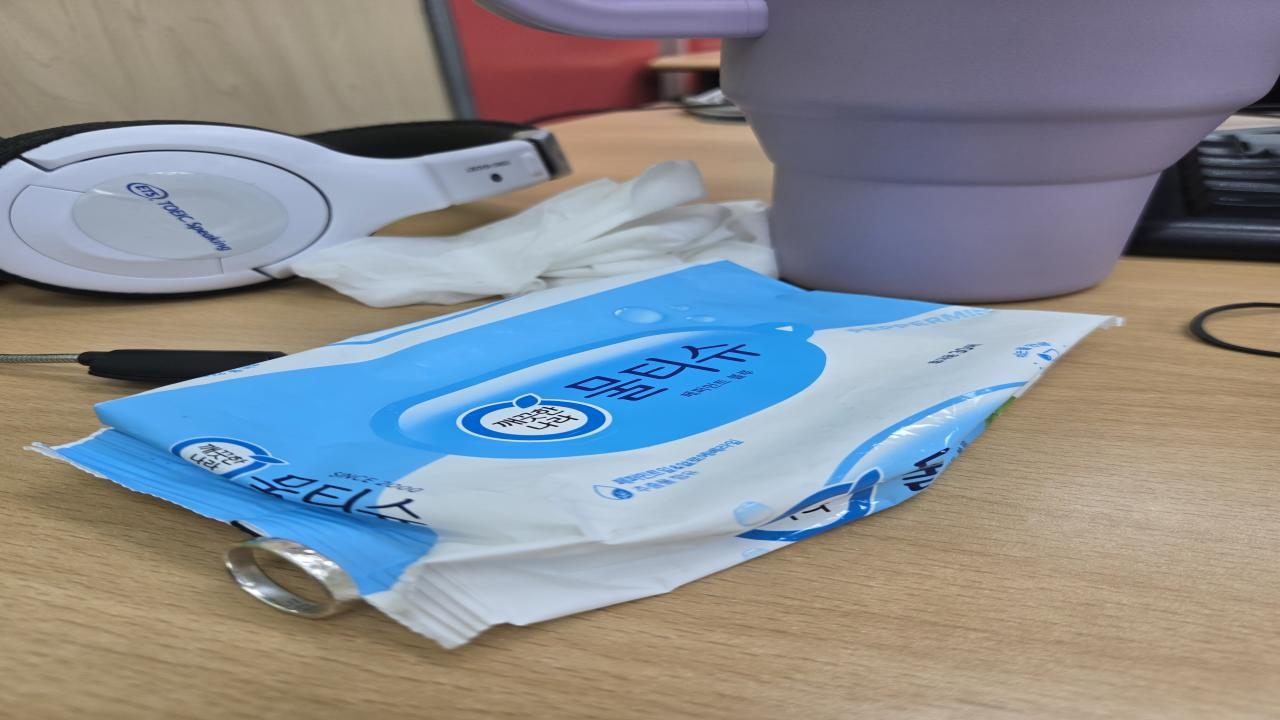ring: (219, 536, 367, 620)
